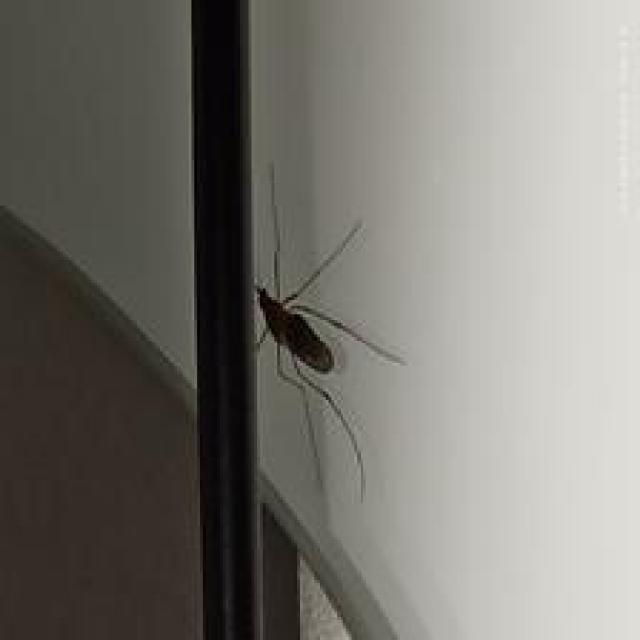Culex: (252, 160, 408, 503)
